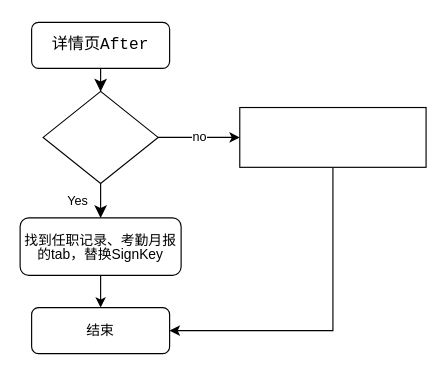
This 446x374 diagram has some shape labels left out. The shapes that lost their labels are listed below. From the top down, each one's box as (x1, y1, x2, y2) in pixels, then its label:
(42, 90, 158, 183): 判断是否有当前员工的权限
(239, 106, 426, 167): 删除任职记录、考勤月报tab
